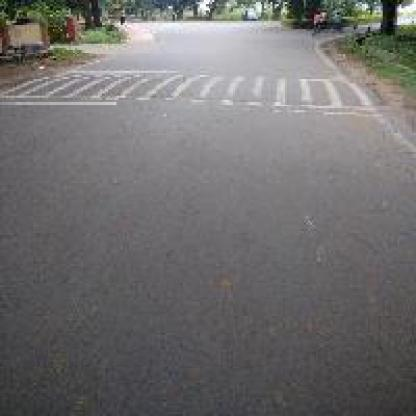Speed Bump: (2, 71, 366, 102)
